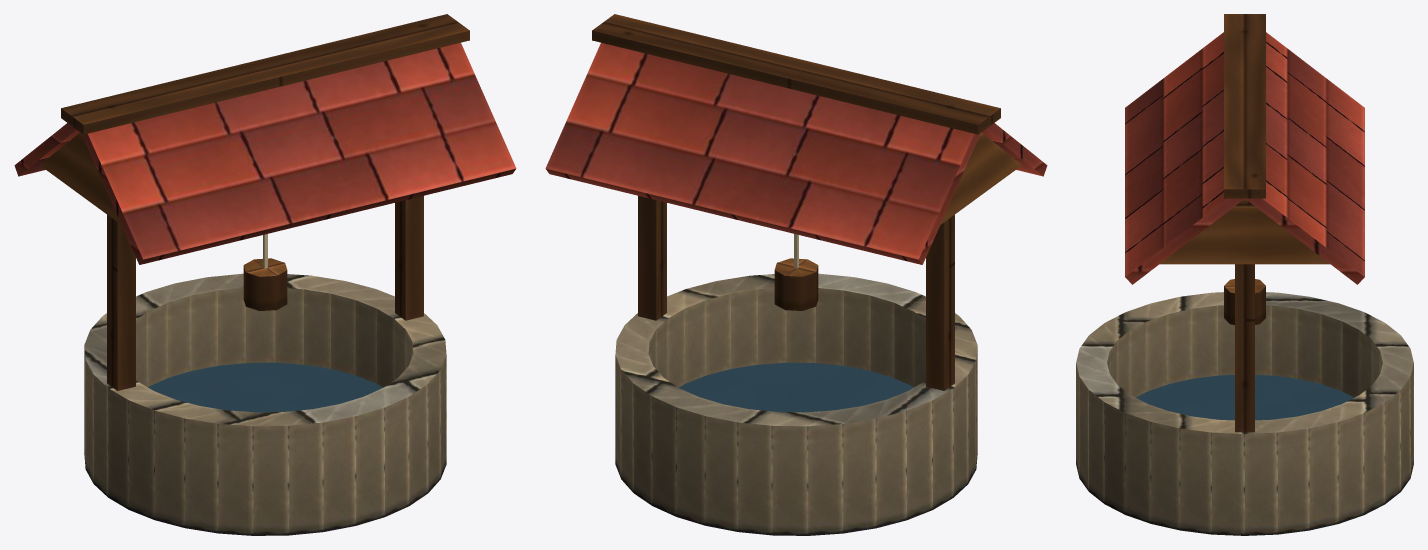
Rendered from well.glb.
3 views of the same model, side by side, from view 1: azimuth 30°, elevation 25°; view 2: azimuth 150°, elevation 25°; view 3: azimuth 270°, elevation 25° (orthographic). The views are drawn at different scales.
Visible parts, largest first — view 1: props_0_0; view 2: props_0_0; view 3: props_0_0.
Boxes of the visible parts, bbox=[...] form: props_0_0: bbox=[14, 14, 516, 535]; props_0_0: bbox=[545, 14, 1047, 535]; props_0_0: bbox=[1076, 14, 1413, 535].
Bounding box in the file's own units: 2.95 × 2.85 × 2.4.
1 material, 1 textured.
